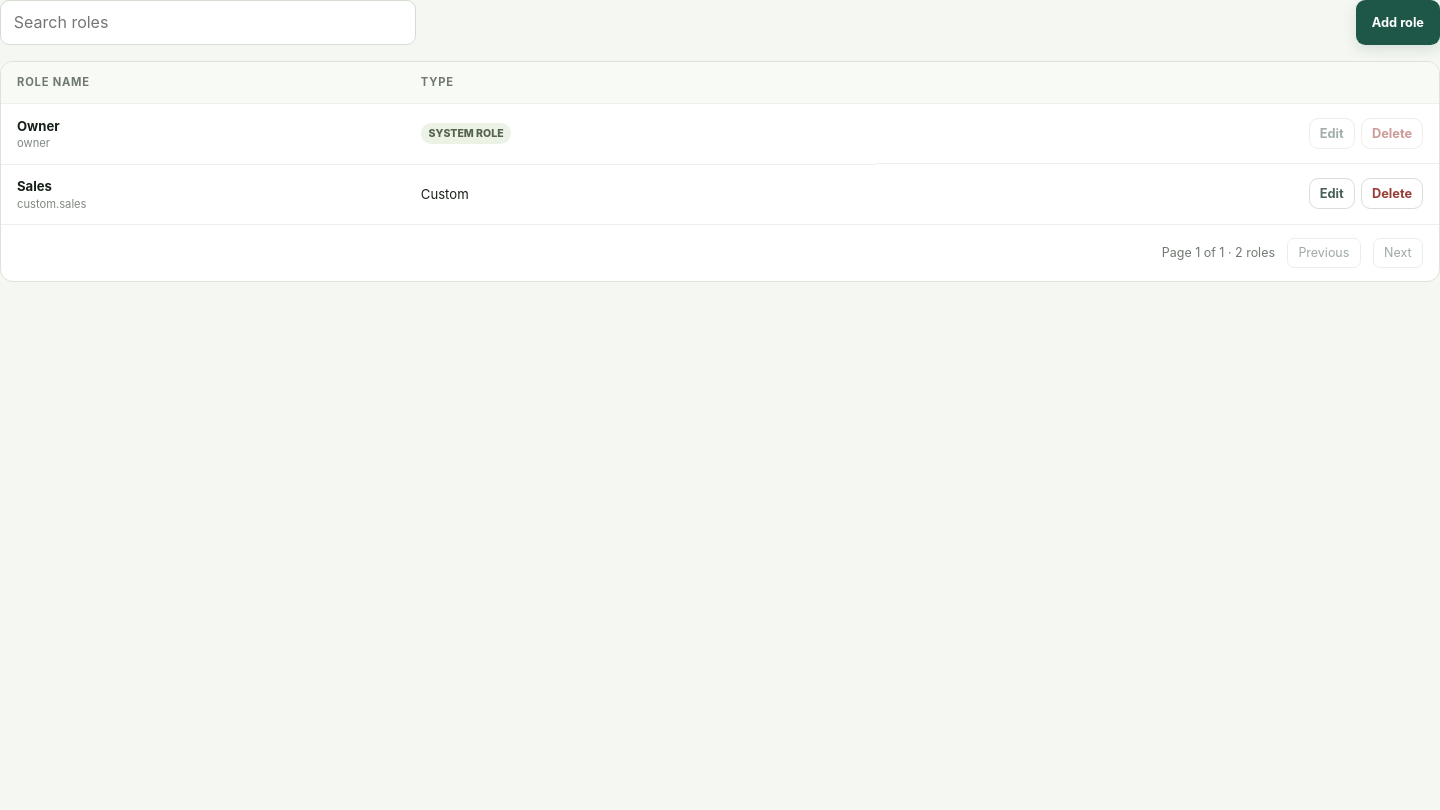
Test case: RolesComponent › creates a trimmed role and surfaces backend conflicts
Click the button "Add role": (1398, 22) [1356,0,1439,45]
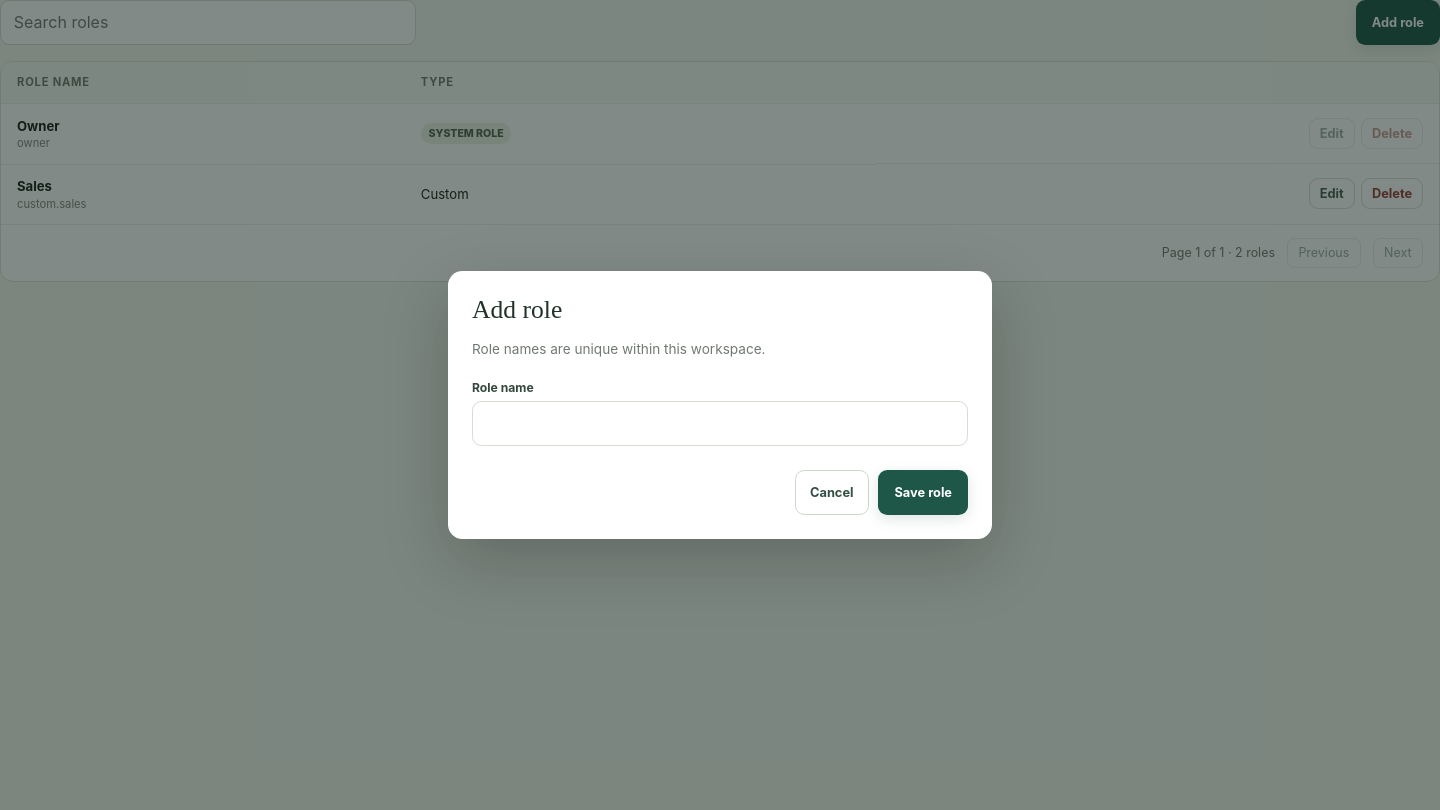
In the field with id "role-name": (720, 424) [472,401,968,446], type "  Sales Manager  "
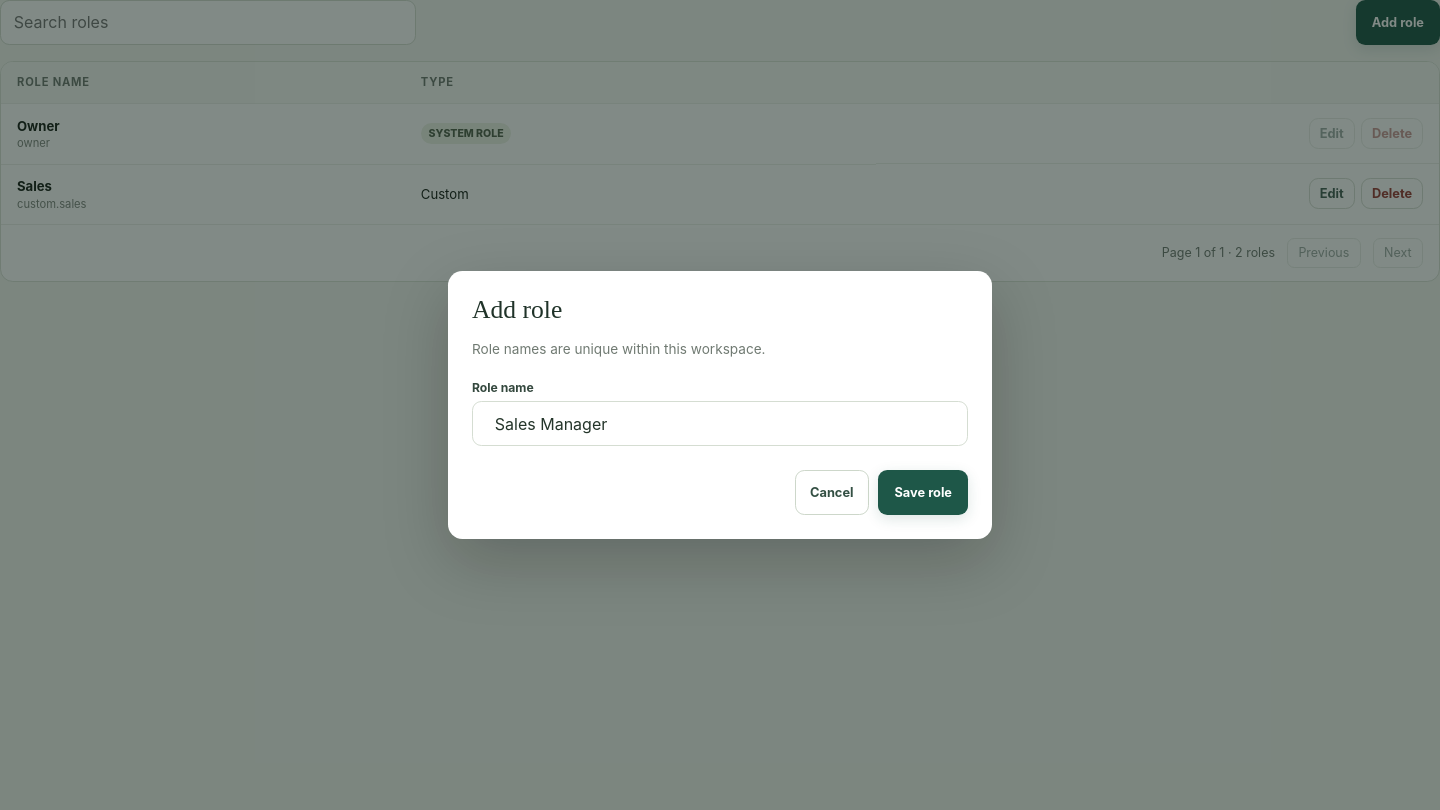
Submit the form, box [472,380,968,515]
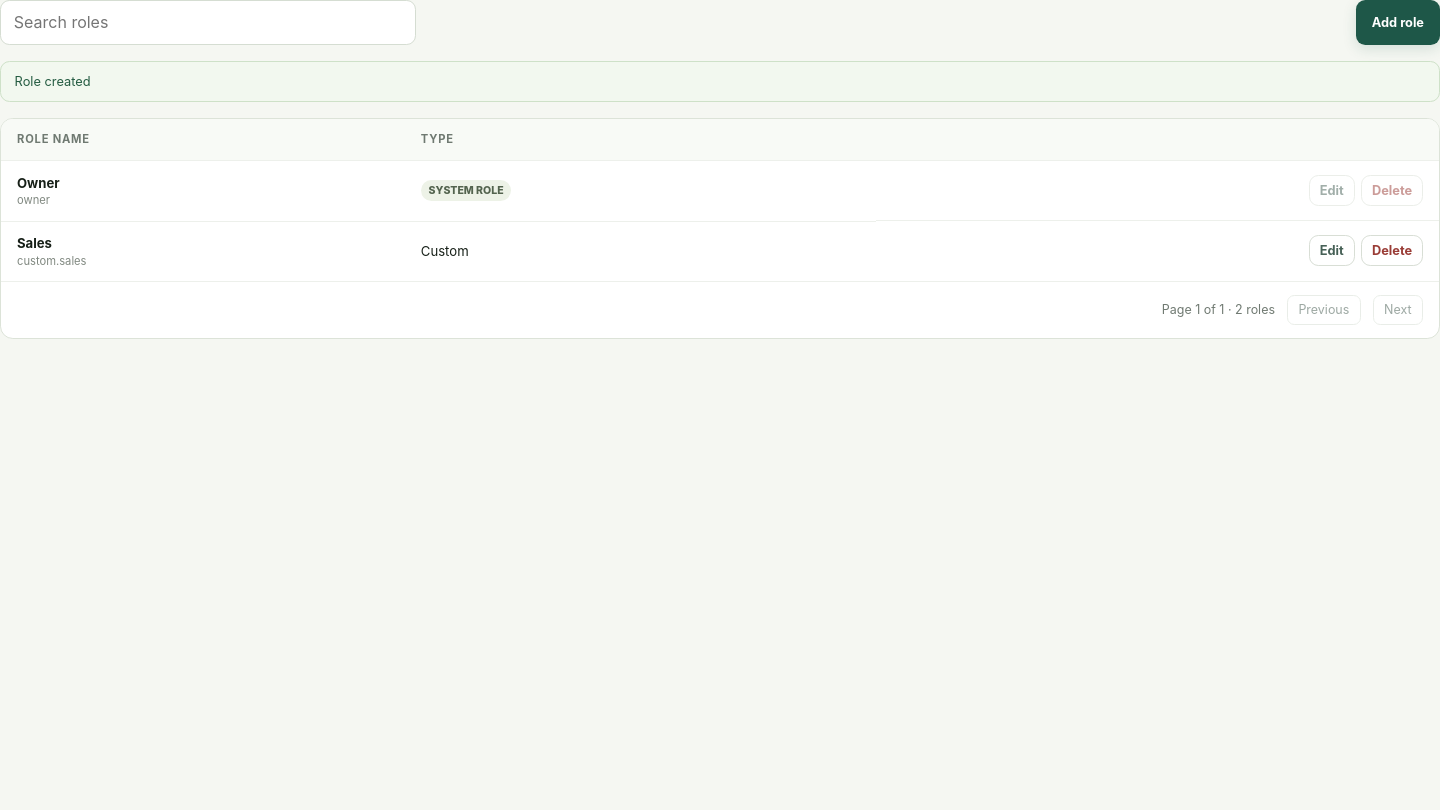
Click the button "Add role": (1398, 22) [1356,0,1439,45]
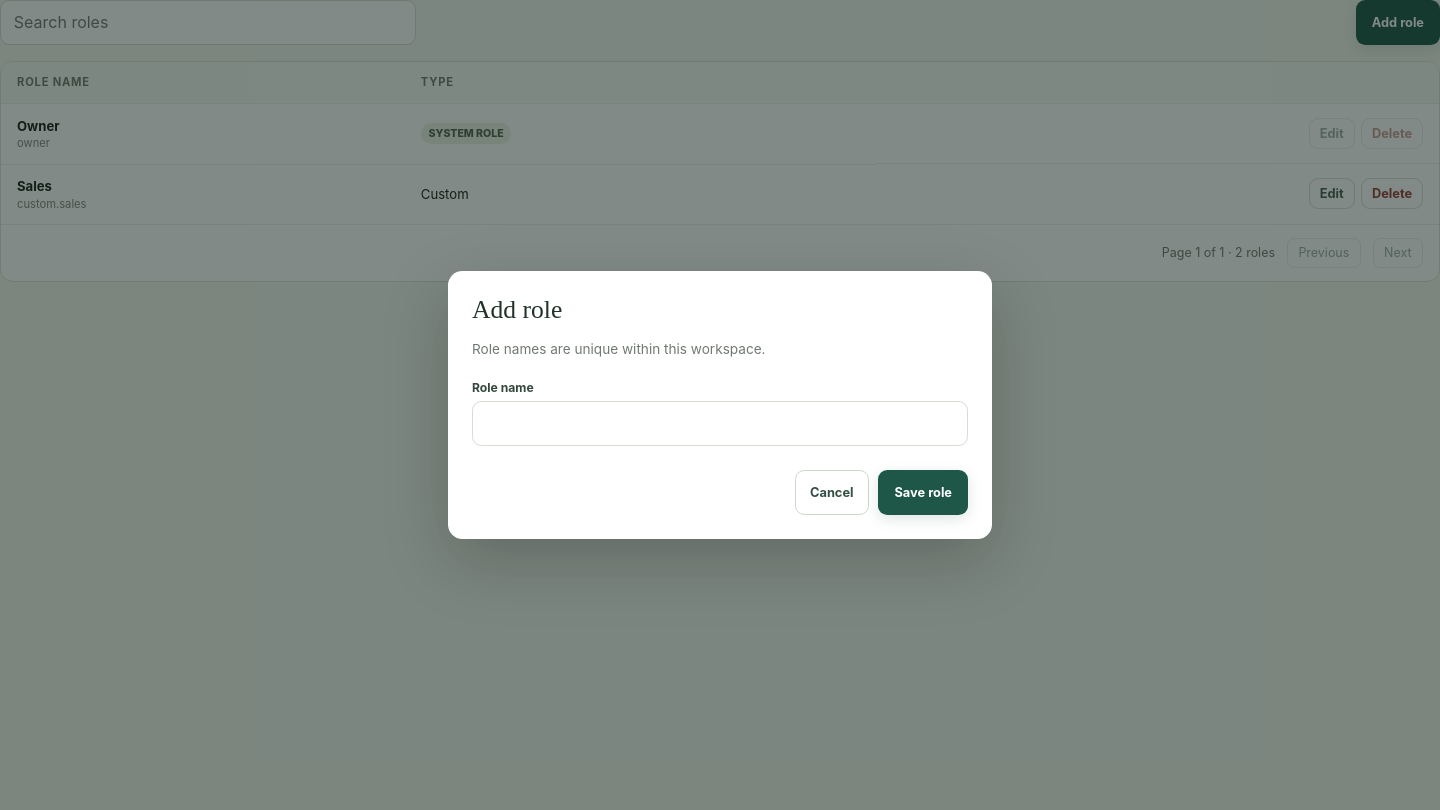
In the field with id "role-name": (720, 424) [472,401,968,446], type "Duplicate"
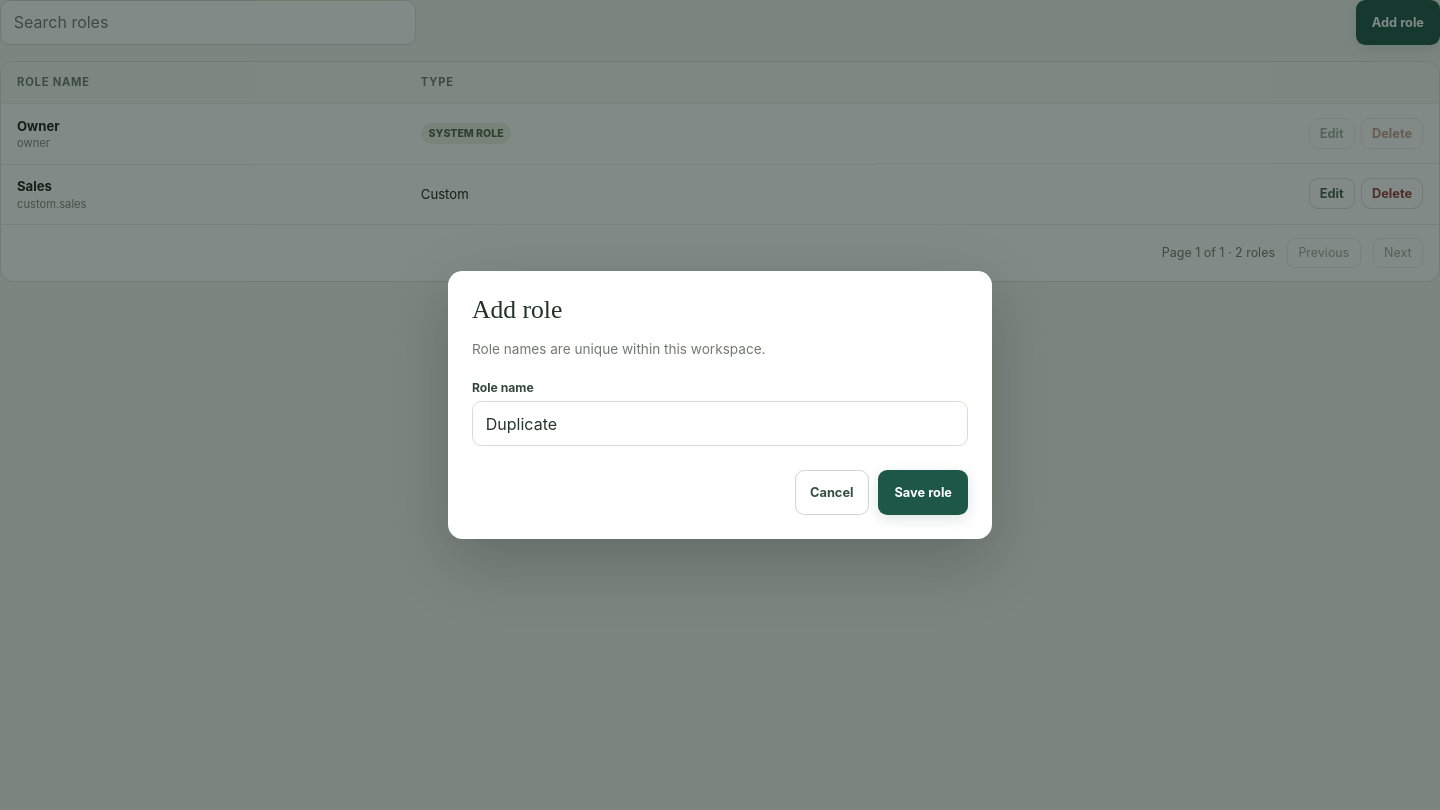
Submit the form, box [472,380,968,515]
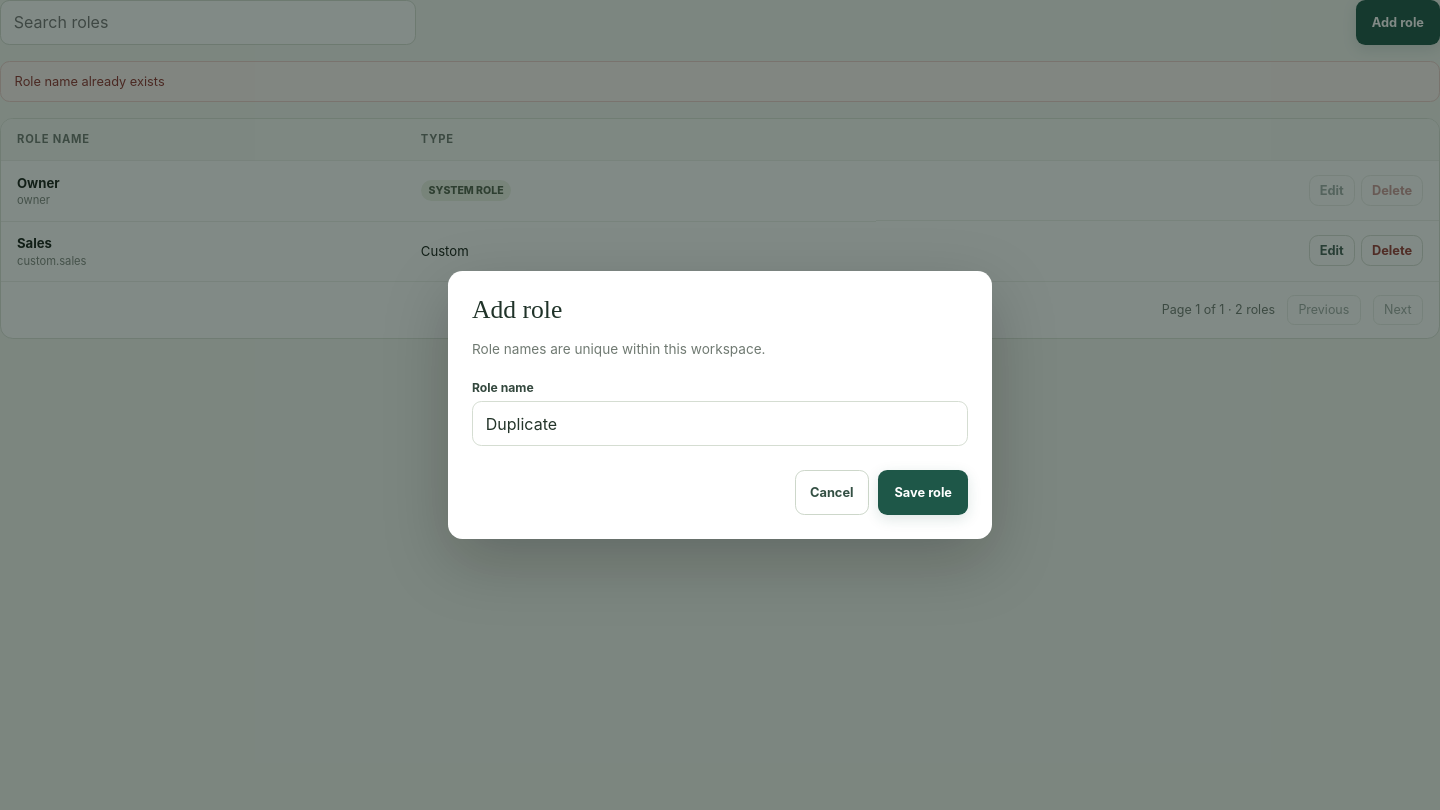
expect the text "Role name already exists" is shown: met, box [0,61,1439,102]
